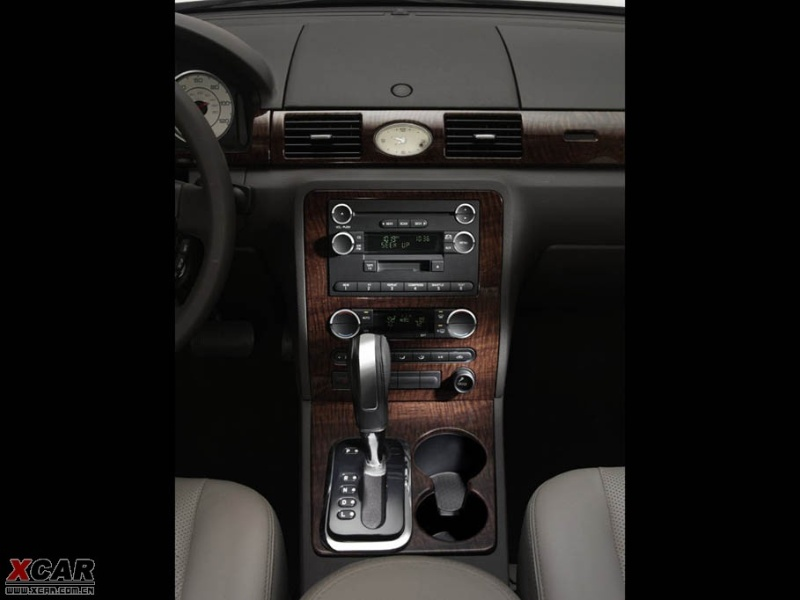control_center: (275, 100, 532, 334)
gear_lever: (298, 326, 460, 548)
odometer: (180, 53, 255, 140)
steering_wheel: (159, 61, 226, 343)
